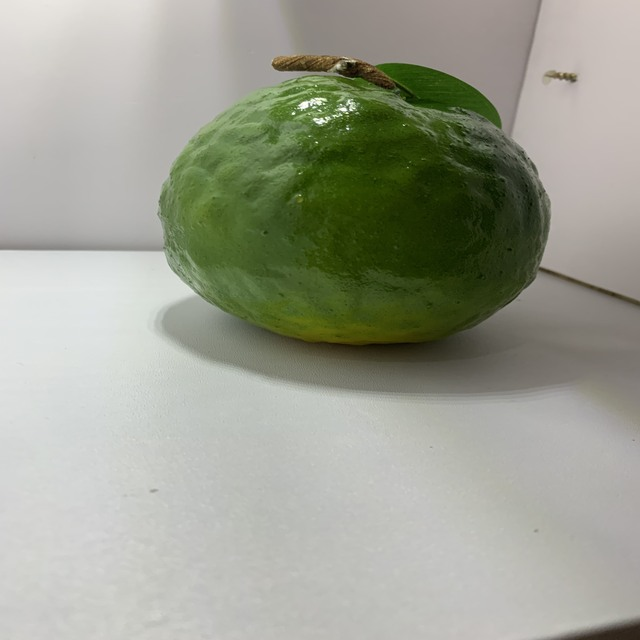Cam xanh: (146, 45, 567, 356)
